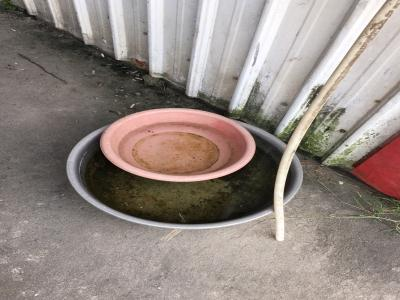bowl: (63, 116, 307, 234), (95, 107, 258, 186)
